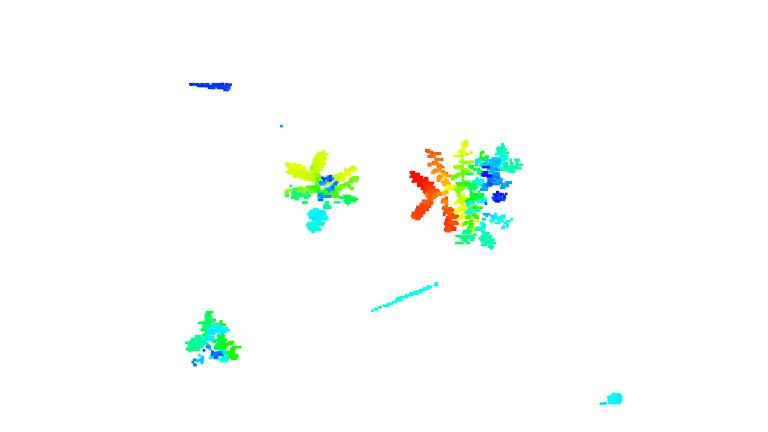chickpea: (403, 139, 524, 249), (283, 146, 365, 234), (183, 310, 244, 374)
